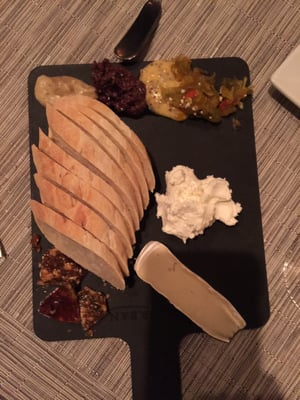sandwich: (112, 0, 163, 64)
